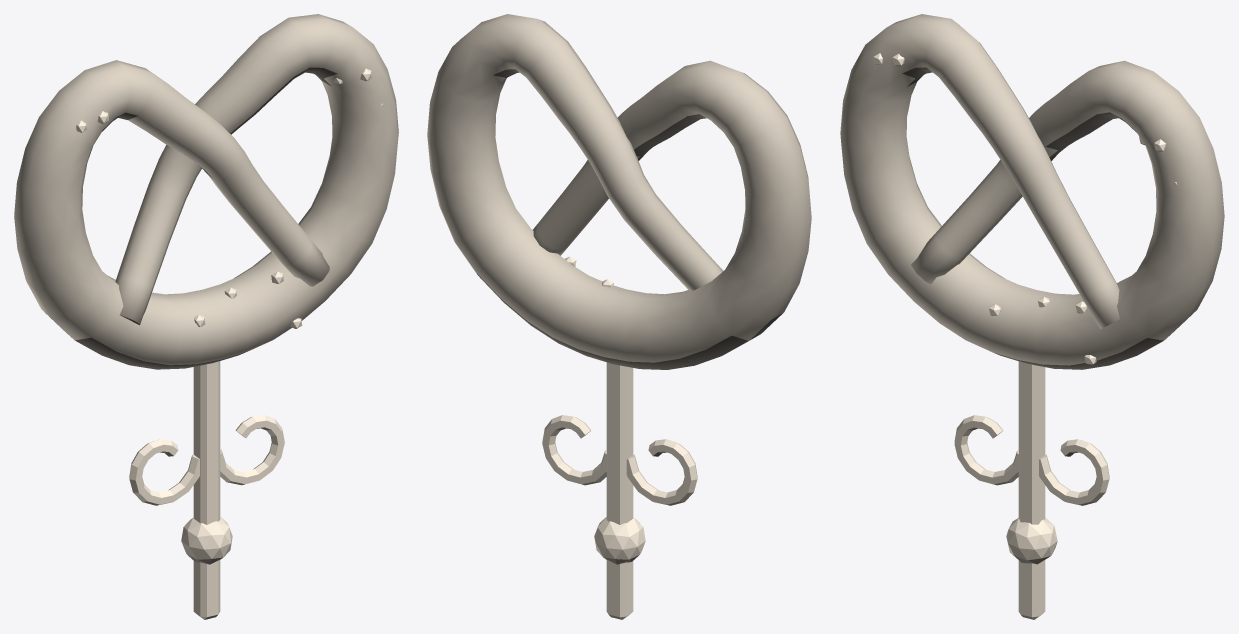
File: SM_VK_Emblem_Ridge_Pretzel.fbx
The picture shows the model from 3 angles, left to right: view 1: azimuth 30°, elevation 25°; view 2: azimuth 150°, elevation 25°; view 3: azimuth 330°, elevation 25°; orthographic projection.
Visible parts, largest first — view 1: SM_VK_Emblem_Ridge_Pretzel.001; view 2: SM_VK_Emblem_Ridge_Pretzel.001; view 3: SM_VK_Emblem_Ridge_Pretzel.001.
Part boxes in pixels (x1,y1,x2,y2): SM_VK_Emblem_Ridge_Pretzel.001: [14, 14, 398, 619]; SM_VK_Emblem_Ridge_Pretzel.001: [427, 14, 811, 619]; SM_VK_Emblem_Ridge_Pretzel.001: [840, 14, 1224, 619].
Bounding box in the file's own units: 1.32 × 1.92 × 0.2633.
